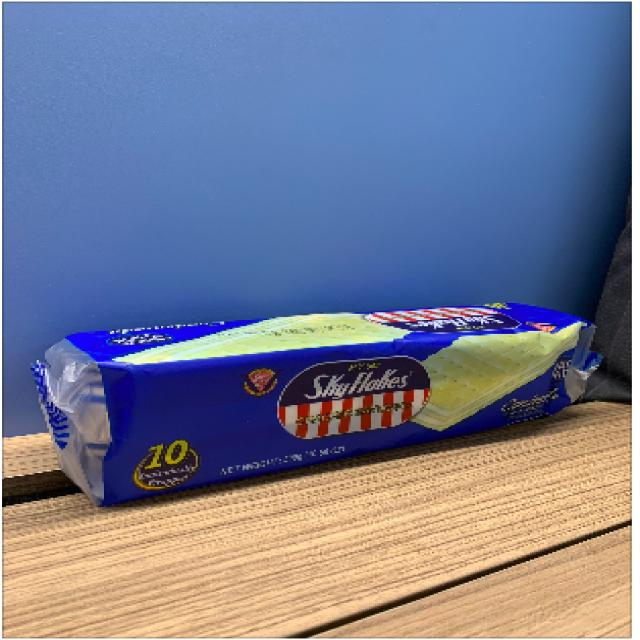object_name: (55, 317, 573, 431)
